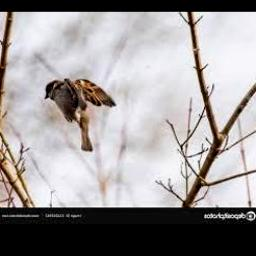Sparrow: (45, 78, 117, 151)
